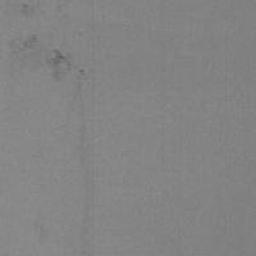Water spot: (74, 82, 93, 256), (46, 47, 86, 81), (8, 35, 41, 55), (19, 1, 29, 17)
